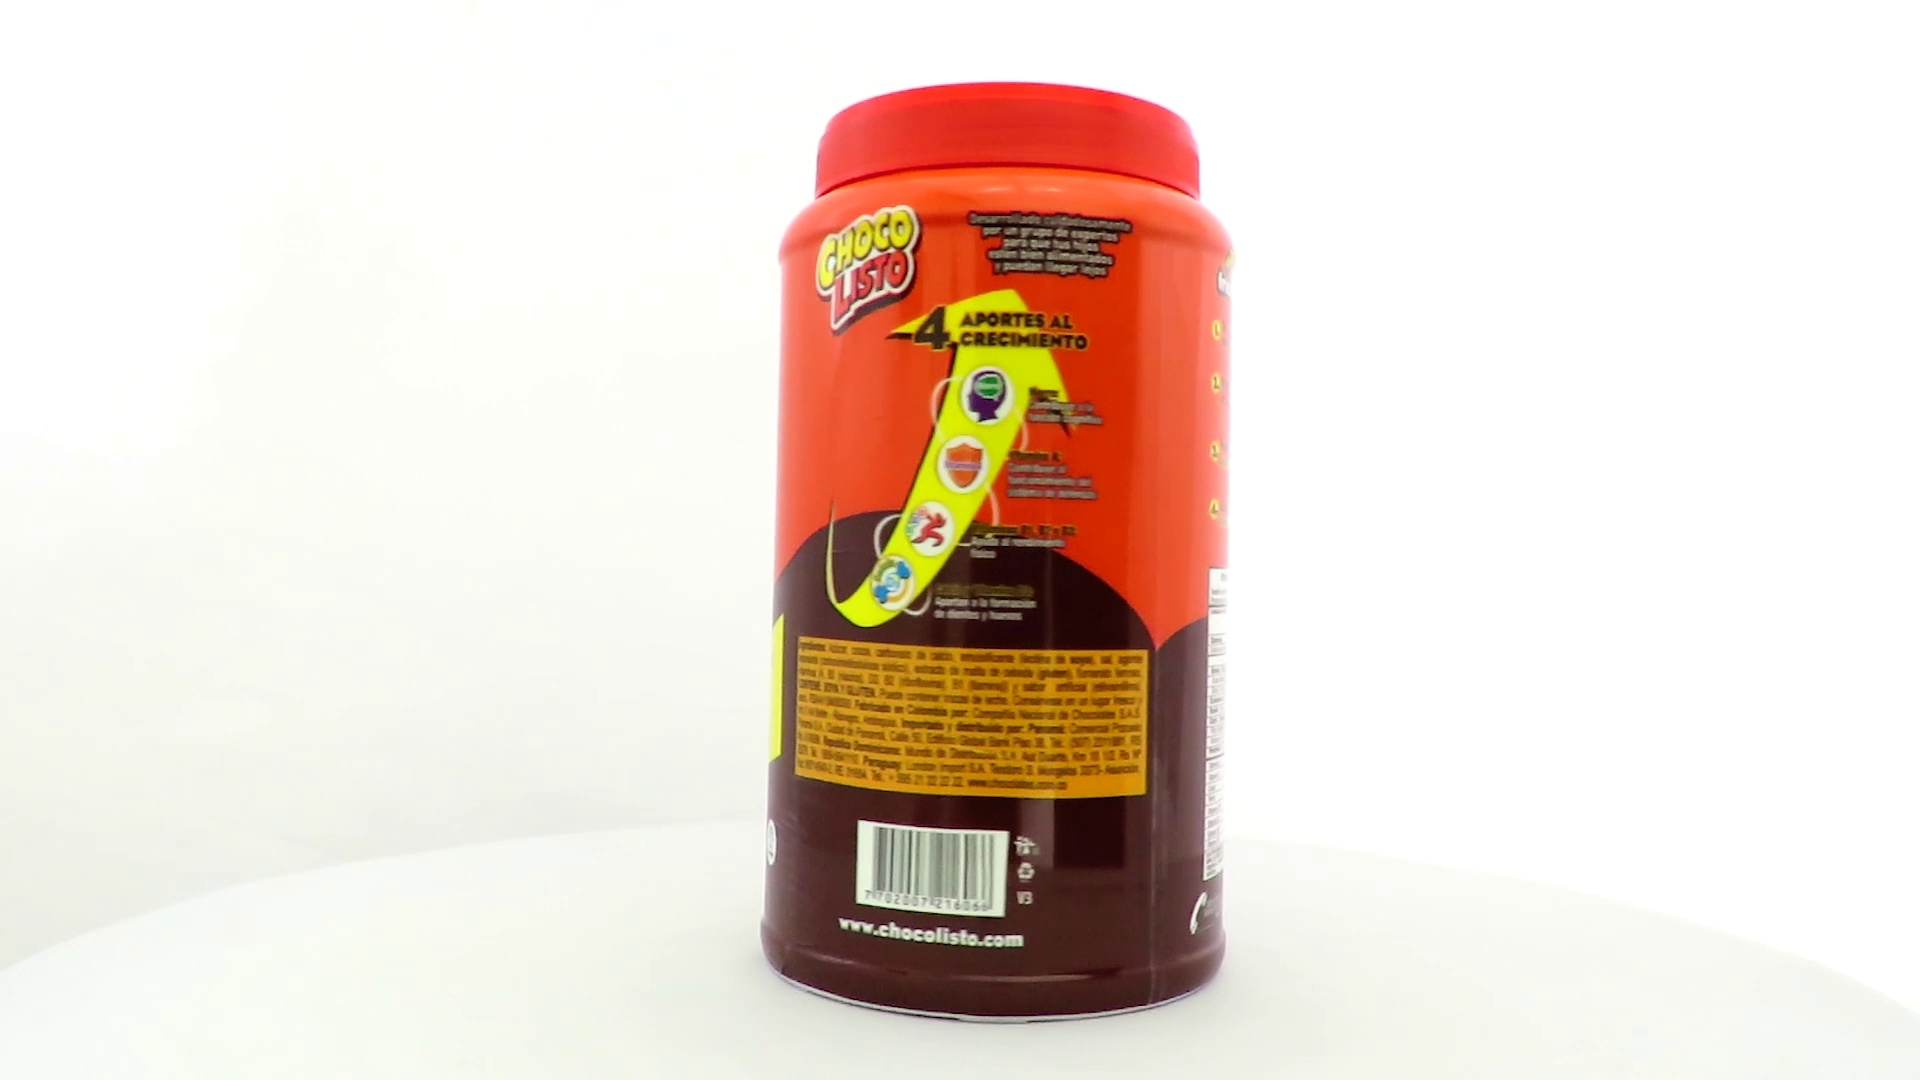COL0170103TRR00100: (756, 200, 1240, 1031)
